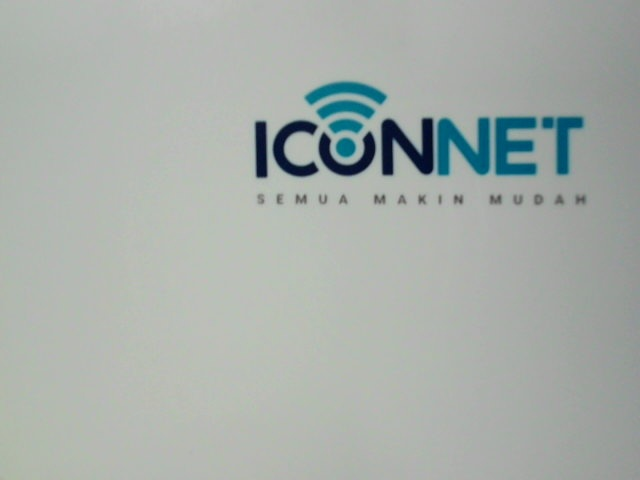BM_ICONNET: (240, 74, 606, 216)
